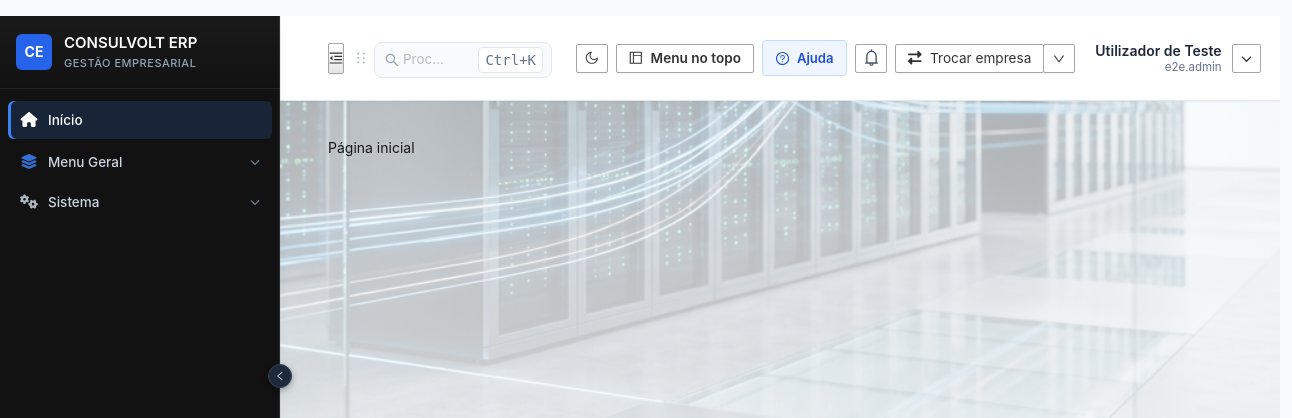
LayoutPrincipal — funcionalidades transversais (ronda 2) › o botão junto ao nome mostra as opções: «Gerir Dados Pessoais» primeiro e «Terminar sessão»
(page scrolled)
Click the button with aria-label "Opções do utilizador": (1172,58) x1=1083 y1=42 x2=1261 y2=74
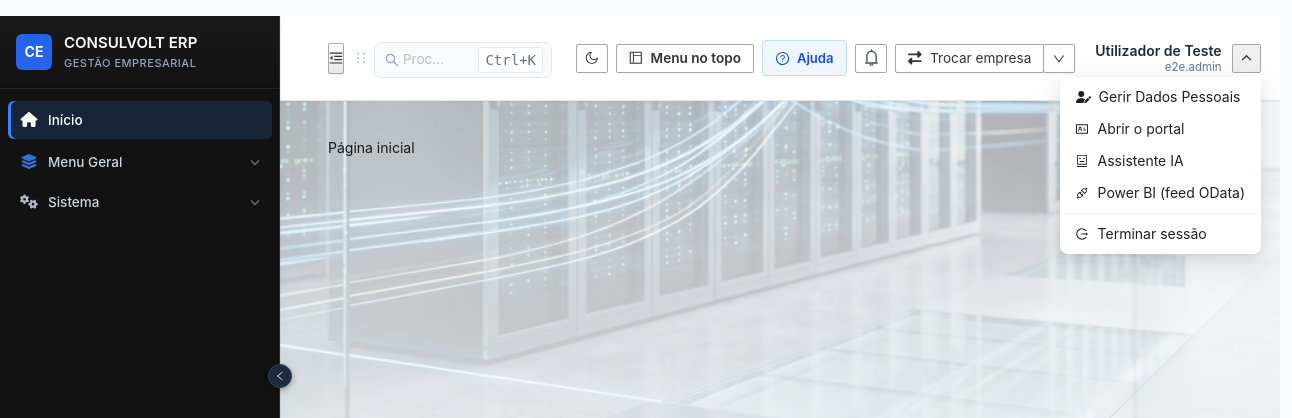
Click the menu item "Gerir Dados Pessoais": (1158,96) x1=1076 y1=88 x2=1240 y2=105
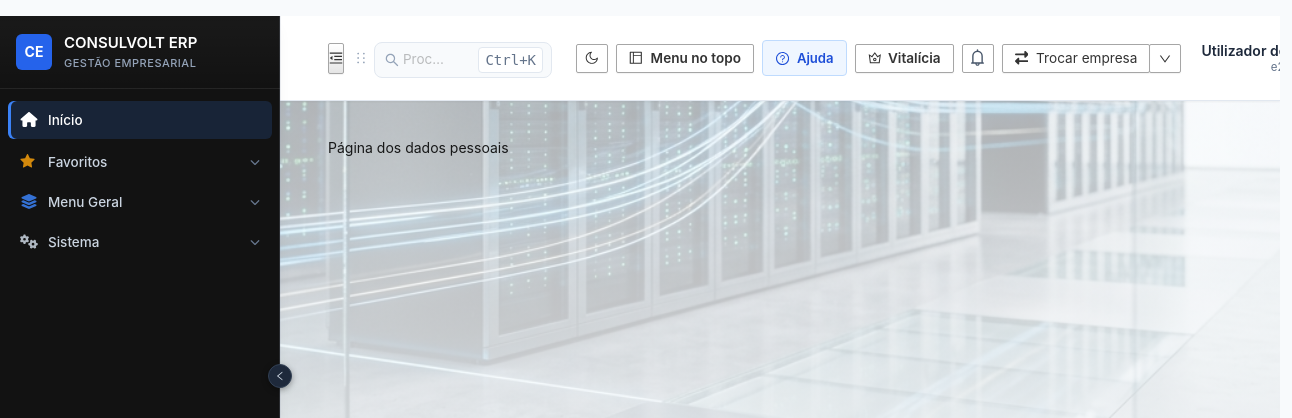
Result: the text "Página dos dados pessoais" is shown at x1=328 y1=139 x2=509 y2=156
